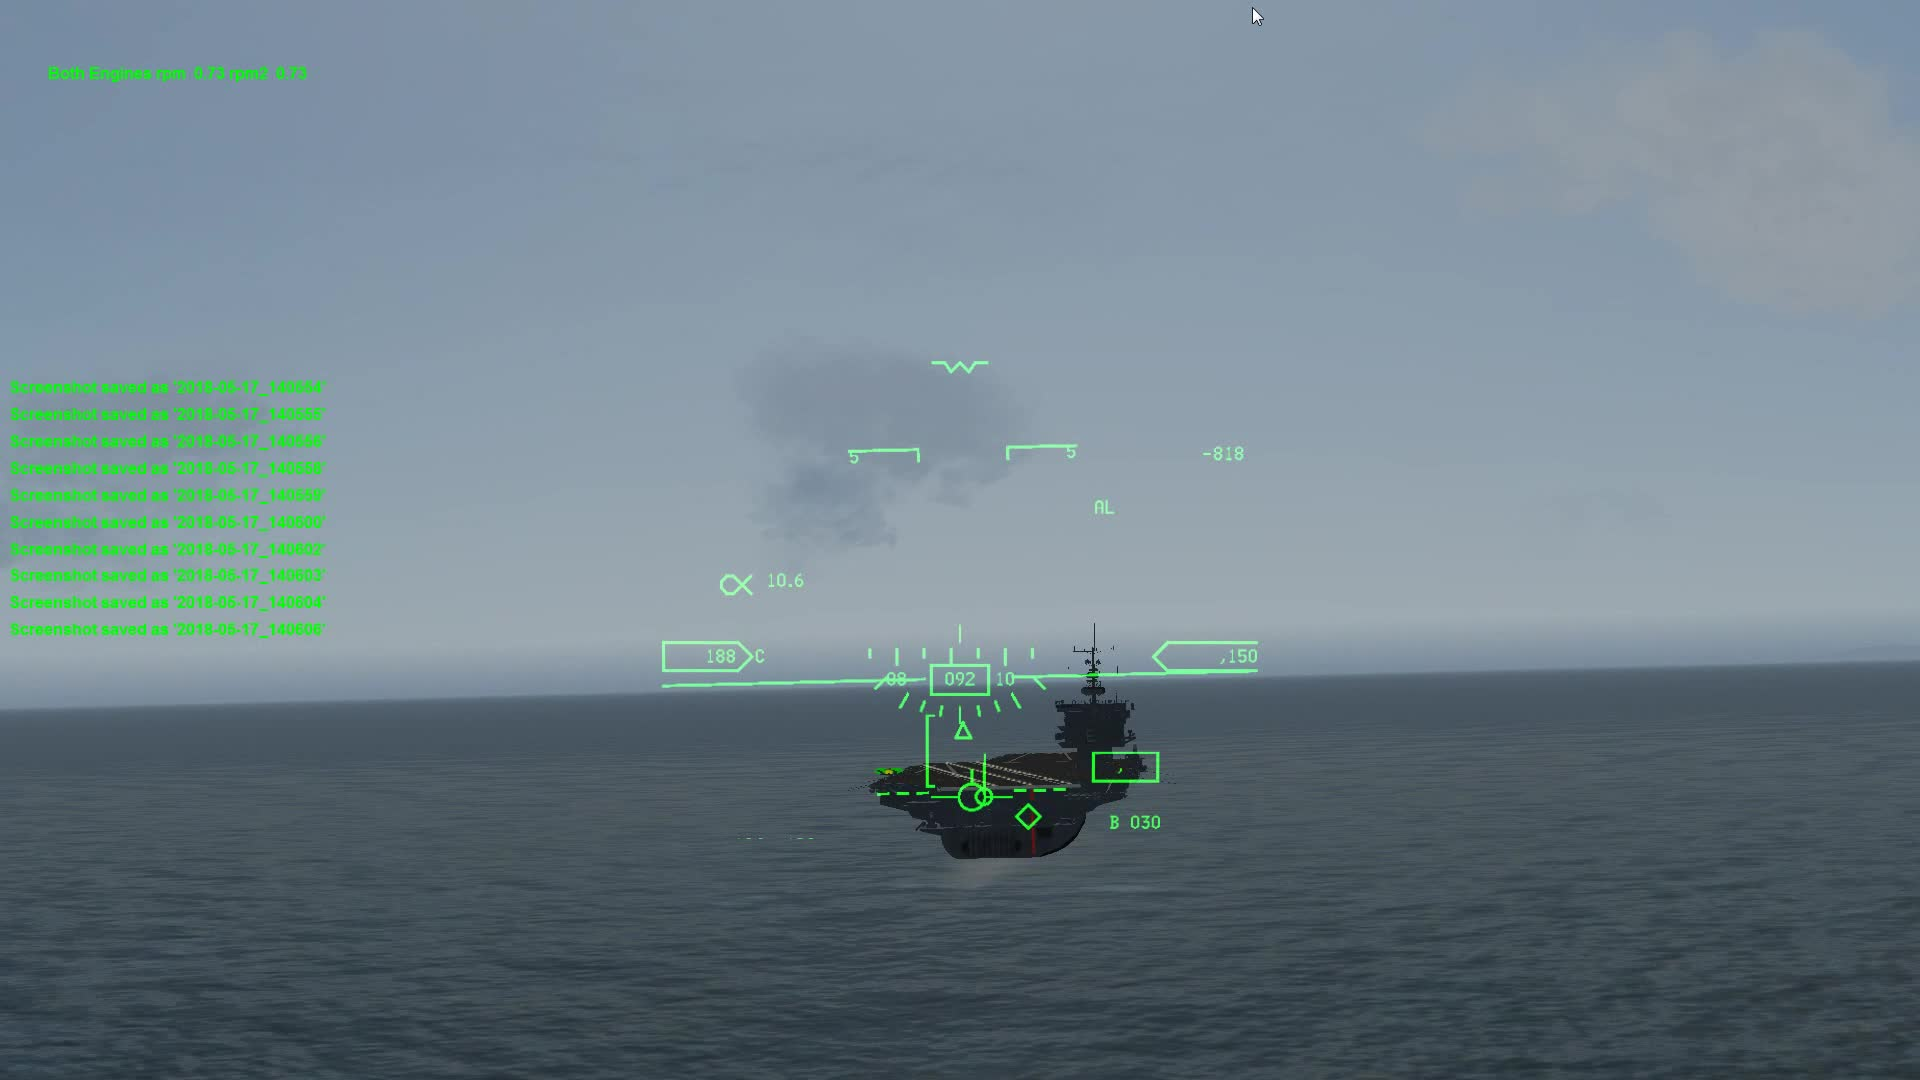speed vector: (928, 767, 1011, 819)
